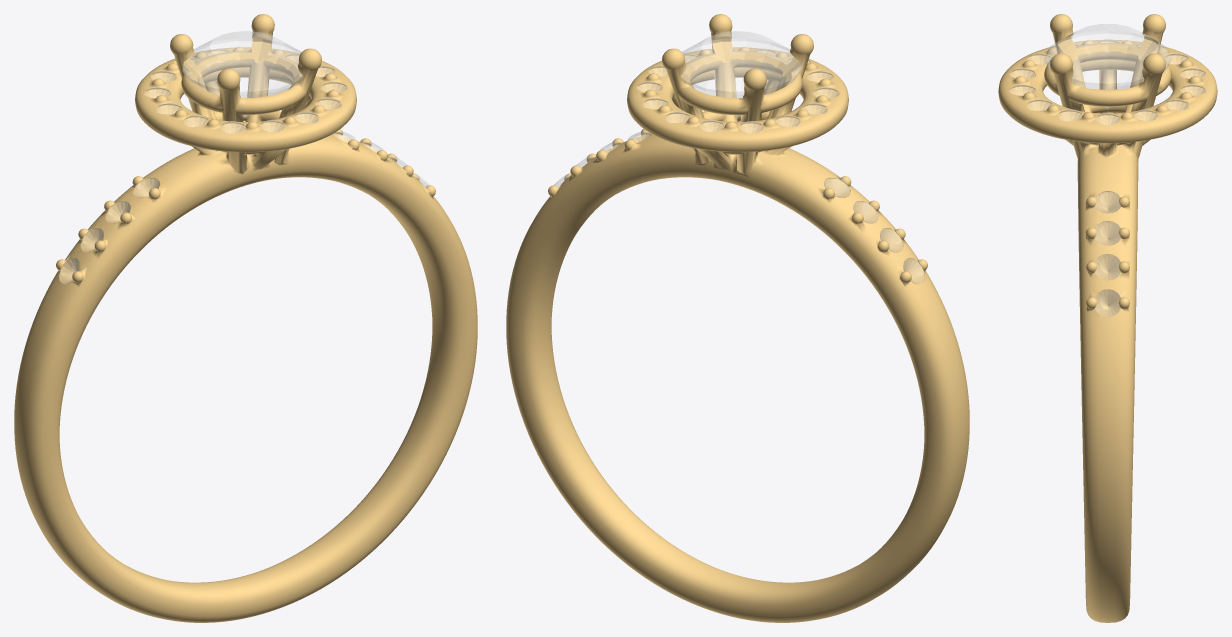
The model's file is ring_halo_solitaire.glb.
3 views of the same model, side by side, from view 1: azimuth 30°, elevation 25°; view 2: azimuth 150°, elevation 25°; view 3: azimuth 270°, elevation 25° (orthographic).
Visible parts, largest first — view 1: gold, centre_stone; view 2: gold, centre_stone; view 3: gold, centre_stone, sh1_3_stone, sh1_2_stone, sh1_1_stone, sh1_0_stone.
Part boxes in pixels (box(x1,y1,x2,y2)): gold: box(14, 14, 477, 622); centre_stone: box(182, 31, 302, 117); gold: box(506, 14, 969, 622); centre_stone: box(681, 31, 801, 117); gold: box(998, 14, 1217, 622); centre_stone: box(1045, 24, 1170, 108); sh1_3_stone: box(1095, 289, 1120, 316); sh1_2_stone: box(1095, 254, 1120, 279); sh1_1_stone: box(1095, 221, 1120, 245); sh1_0_stone: box(1095, 191, 1120, 212).
Bounding box in the file's own units: 0.0204 × 0.0246 × 0.00866.
